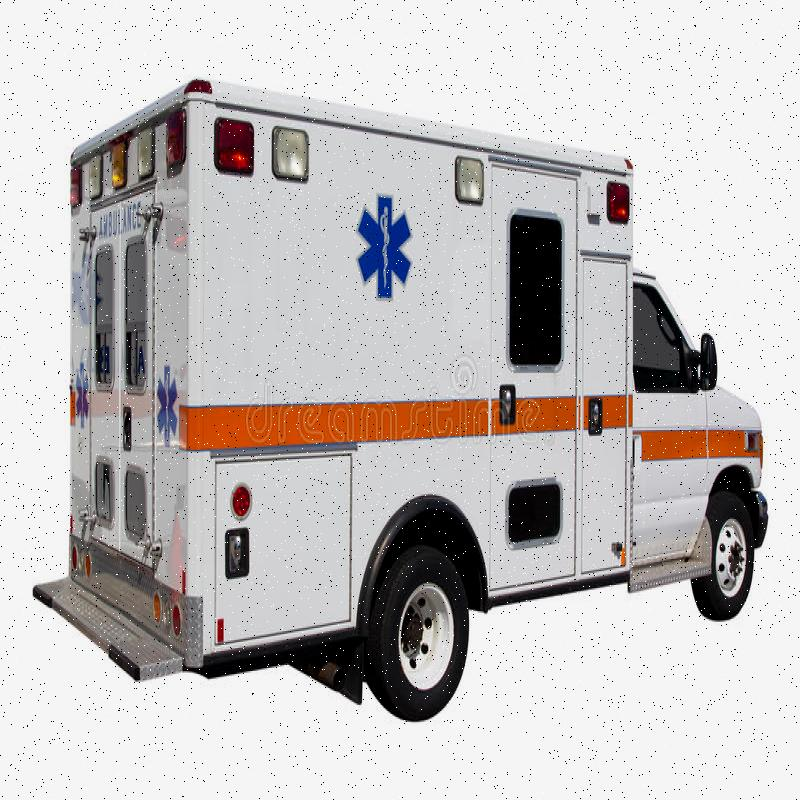ambulance: (29, 56, 774, 734)
